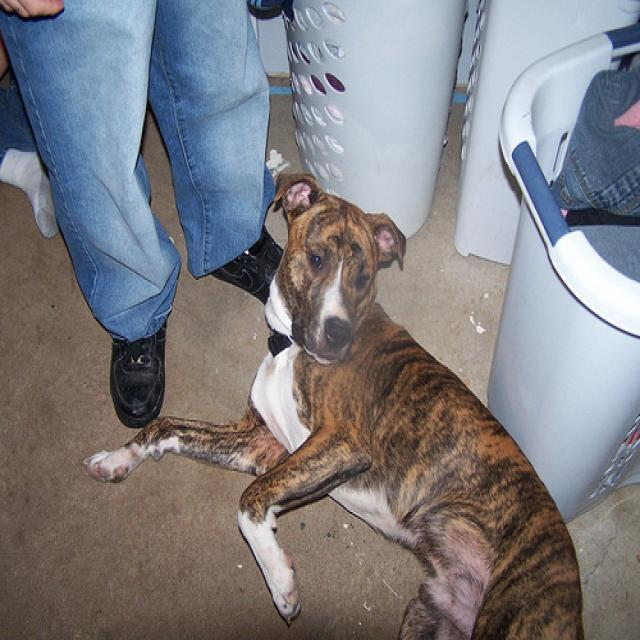dog-american_pit_bull_terrier: (78, 159, 593, 637)
